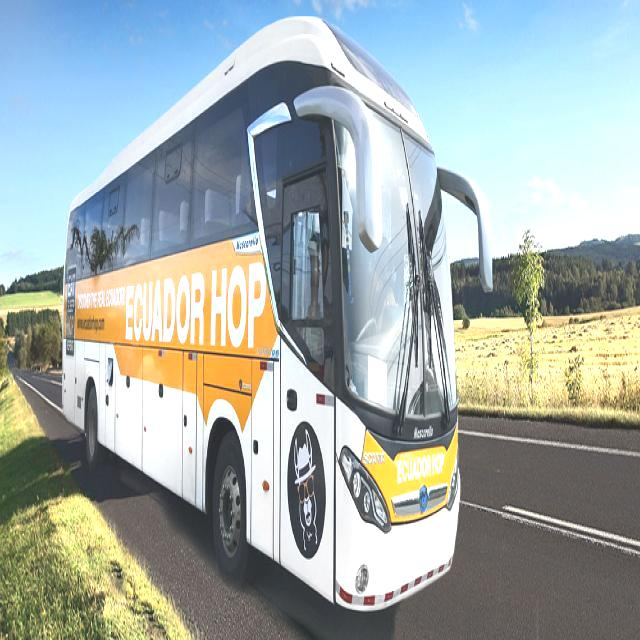BUS: (60, 12, 478, 626)
